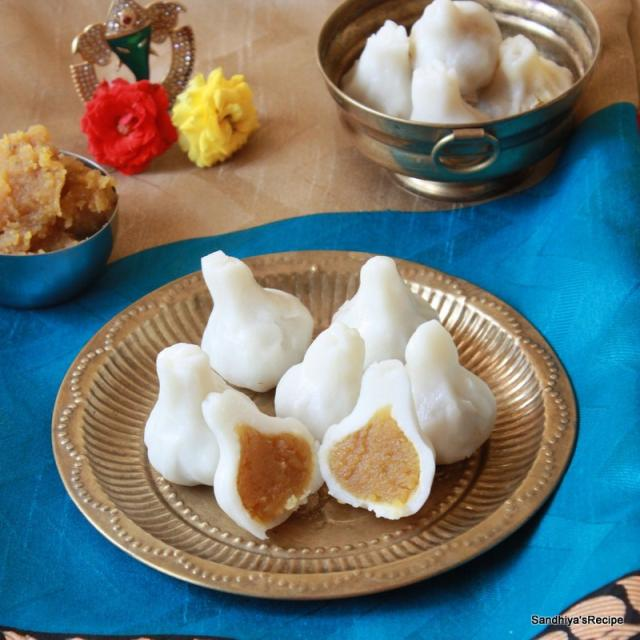poorna kolukattai: (142, 229, 510, 555)
